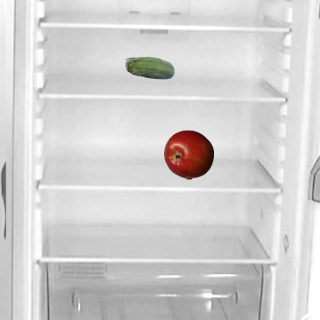Apple Braeburn: (163, 129, 213, 179)
Corn Husk: (124, 44, 174, 94)
